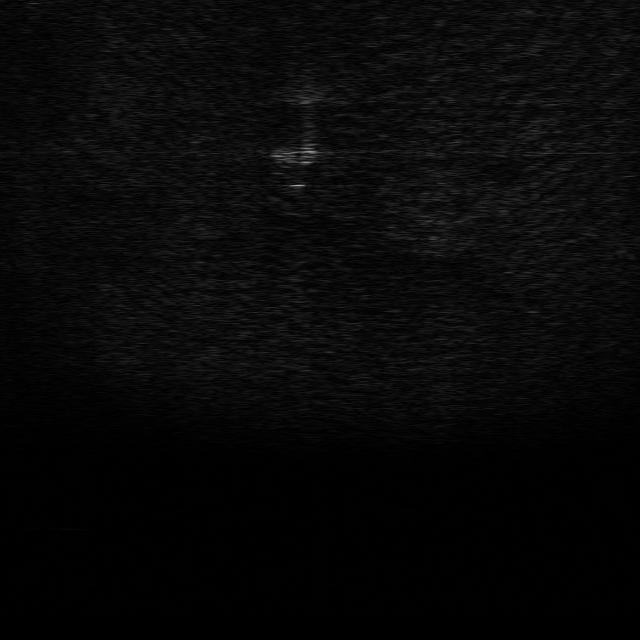plane: (271, 140, 331, 189)
